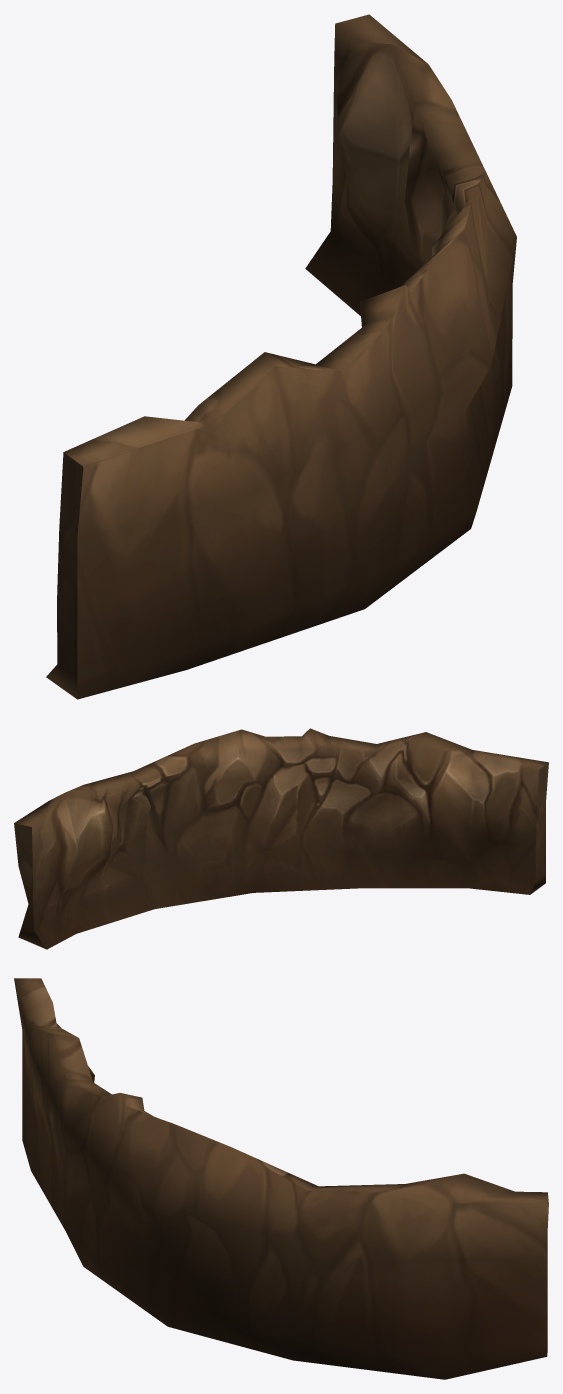
Rendered from Wall_cave_curved_01.fbx.
3 views of the same model, one above another, from view 1: azimuth 30°, elevation 25°; view 2: azimuth 150°, elevation 25°; view 3: azimuth 270°, elevation 25° (orthographic). The views are drawn at different scales.
Parts seen in each view (by area): view 1: Wall_cave_curved_01; view 2: Wall_cave_curved_01; view 3: Wall_cave_curved_01.
Boxes of the visible parts, bbox=[...] form: Wall_cave_curved_01: bbox=[46, 14, 516, 699]; Wall_cave_curved_01: bbox=[14, 728, 548, 949]; Wall_cave_curved_01: bbox=[14, 978, 548, 1379].
Bounding box in the file's own units: 983 × 425 × 979.
